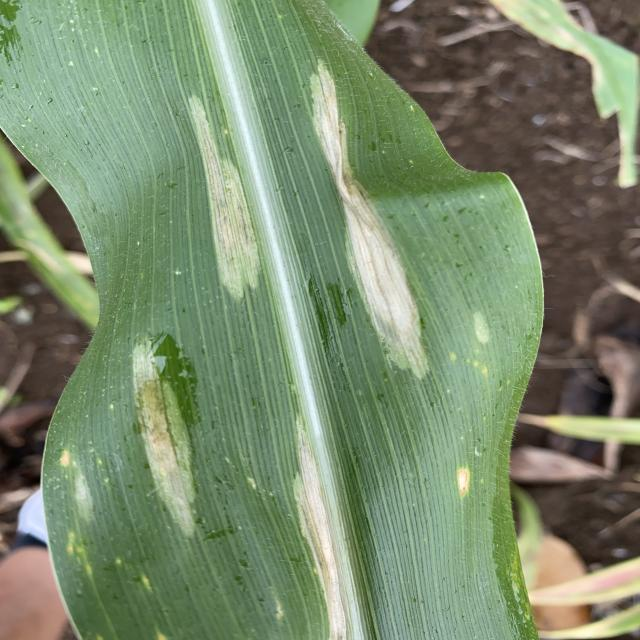Corn_Leaf_Blight: (40, 0, 542, 640)
